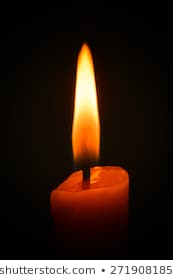Fire: (73, 42, 104, 171)
